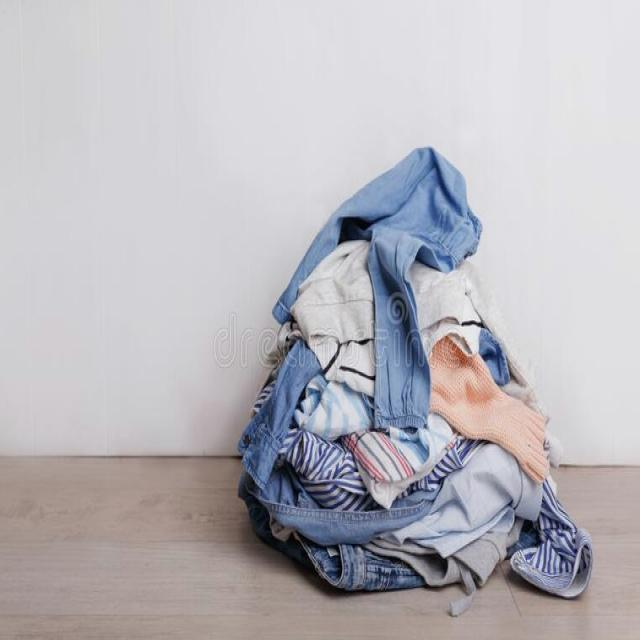clothes: (240, 134, 610, 626)
